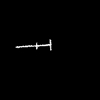double_crochet: (16, 40, 50, 49)
